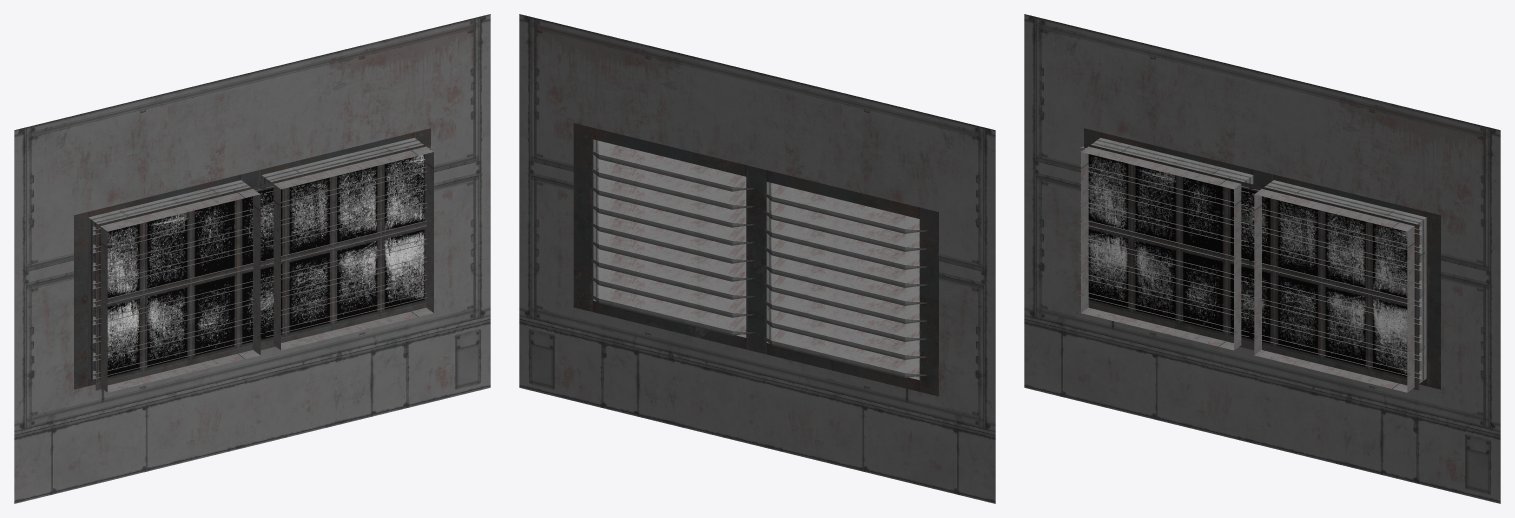
Rendered from ARC0910204.fbx.
The picture shows the model from 3 angles, left to right: view 1: azimuth 30°, elevation 25°; view 2: azimuth 150°, elevation 25°; view 3: azimuth 330°, elevation 25°; orthographic projection.
Parts seen in each view (by area): view 1: smARC0910204; view 2: smARC0910204; view 3: smARC0910204.
Part boxes in pixels (left/top/right/bottom): smARC0910204: left=14, top=14, right=490, bottom=503; smARC0910204: left=519, top=14, right=995, bottom=503; smARC0910204: left=1024, top=14, right=1500, bottom=503.
Size of the model in its own units: 400 by 300 by 34.51.
Materials: 1 (1 with a texture image).
